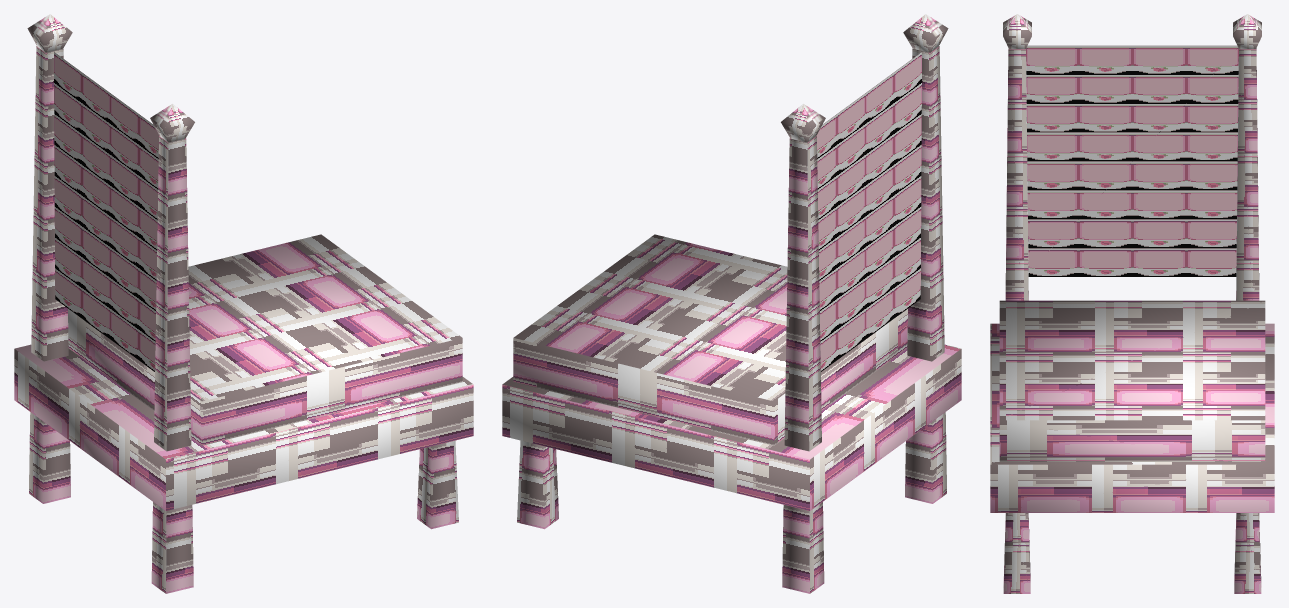
The model's file is 3580kg_21_isu.gltf.
The picture shows the model from 3 angles, left to right: view 1: azimuth 30°, elevation 25°; view 2: azimuth 150°, elevation 25°; view 3: azimuth 270°, elevation 25°; orthographic projection. The views are drawn at different scales.
Visible parts, largest first — view 1: 3580kg_21_isu; view 2: 3580kg_21_isu; view 3: 3580kg_21_isu.
Boxes of the visible parts, x1,y1,x2,y2 form: 3580kg_21_isu: (14,14,473,593); 3580kg_21_isu: (502,14,961,593); 3580kg_21_isu: (990,14,1274,593).
Bounding box in the file's own units: 0.762 × 1.14 × 0.6499.
Materials: 2 (2 with a texture image).
